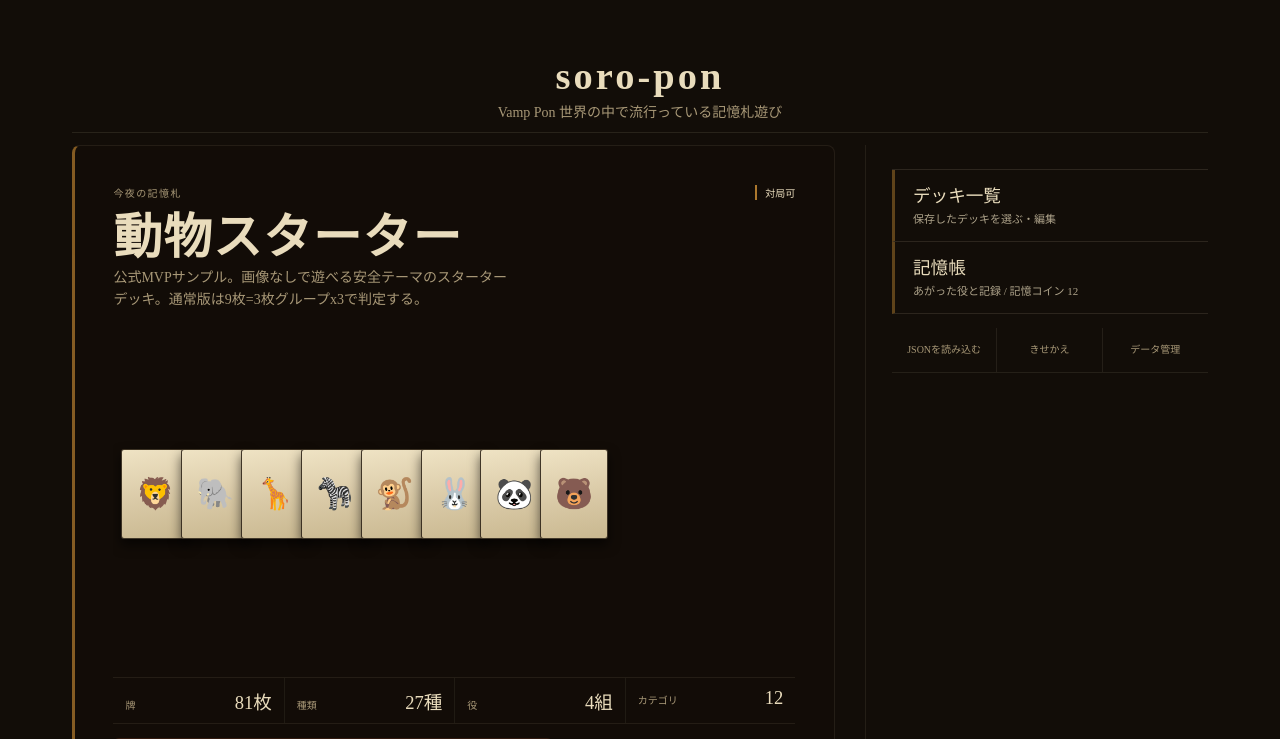
Test: TopScreen interaction hierarchy › 初期化確認中はデータ管理を閉じ、aria-modal/focus trapを重ねない
Click the button "データ管理": (1155, 350) x1=1103 y1=328 x2=1208 y2=372
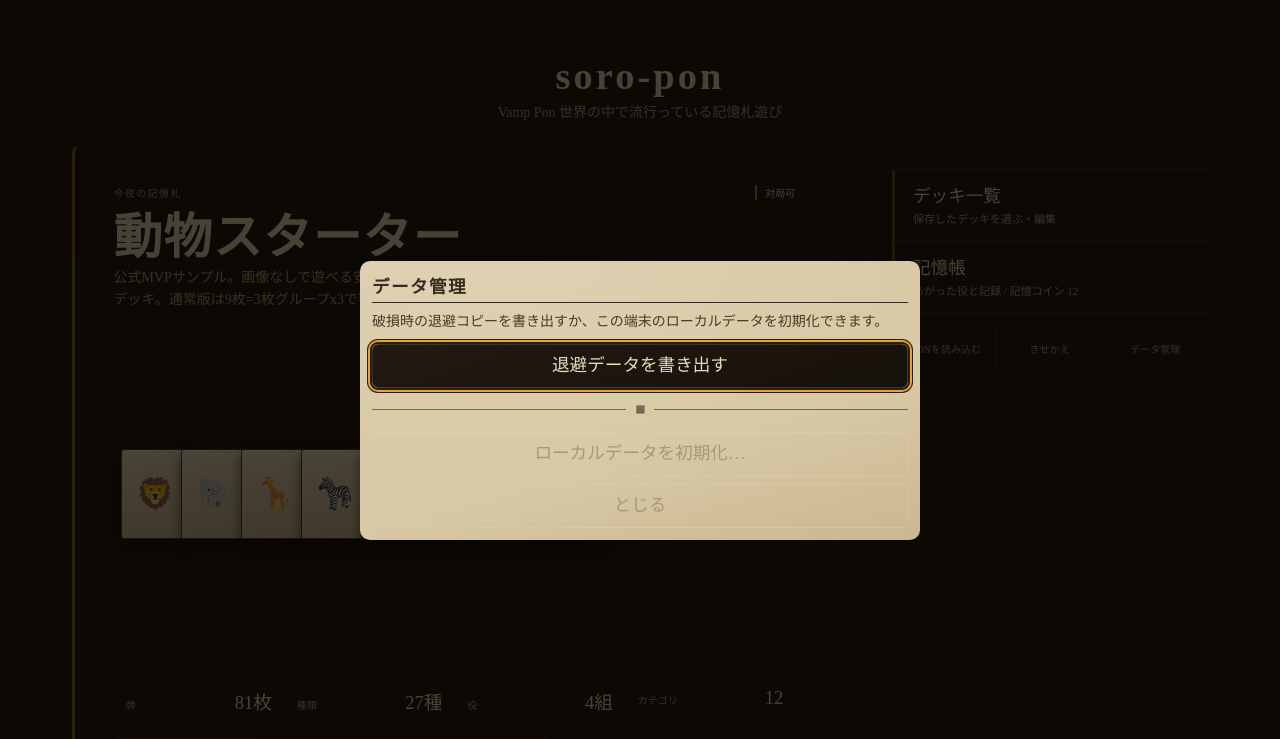
Click the button "ローカルデータを初期化…": (640, 454) x1=372 y1=432 x2=908 y2=476
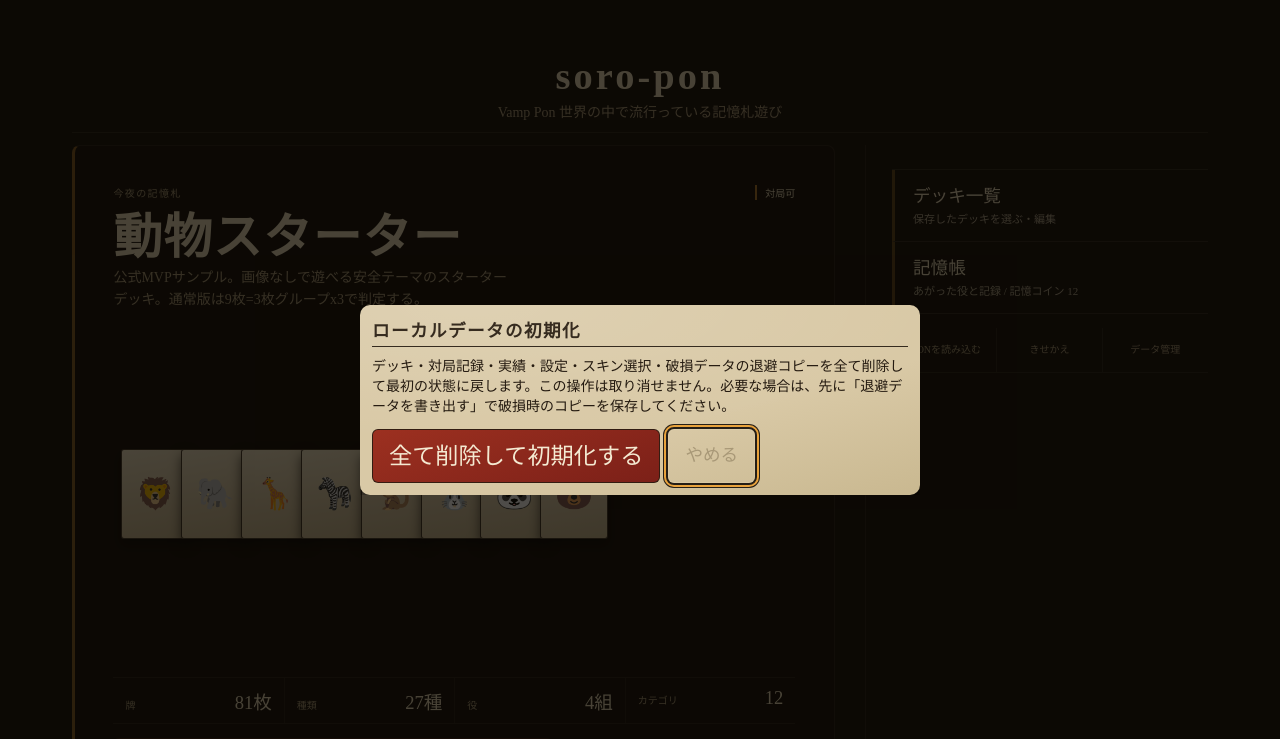
Expected: the number of dialogs is 1, x1=360 y1=305 x2=920 y2=495
Expected: the button "全て削除して初期化する" is shown, x1=372 y1=429 x2=660 y2=483
Expected: the button "やめる" is shown, x1=668 y1=429 x2=755 y2=483
